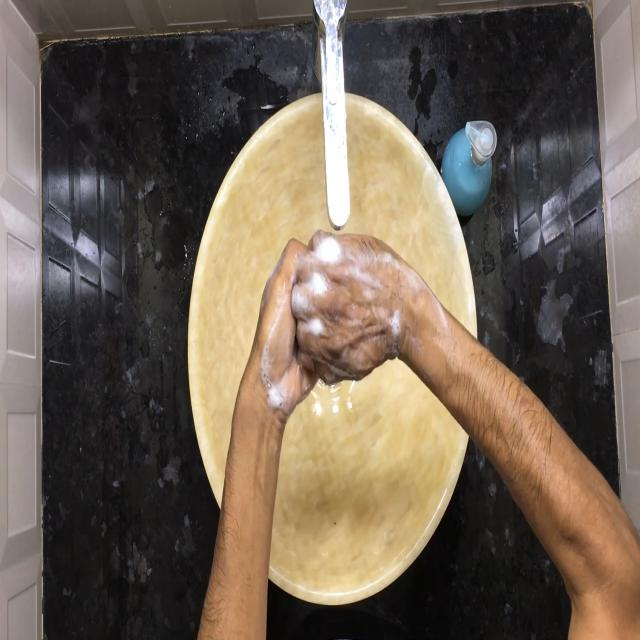step_4: (262, 217, 404, 405)
